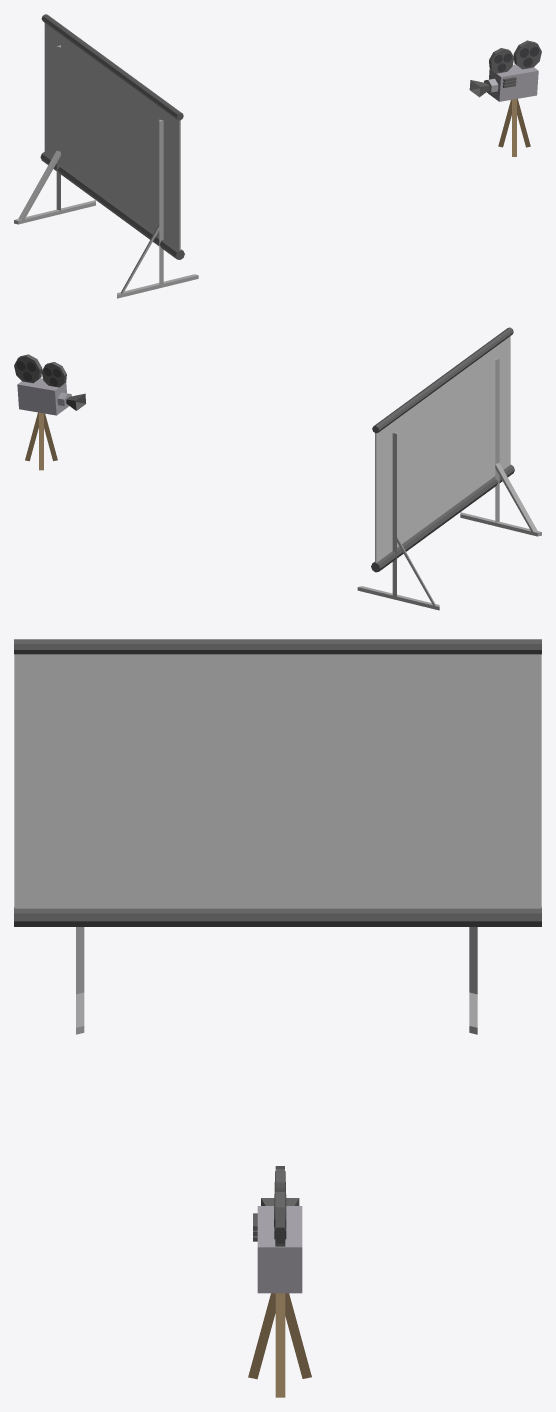
File: projector.obj
The picture shows the model from 3 angles, top to bottom: view 1: azimuth 30°, elevation 25°; view 2: azimuth 150°, elevation 25°; view 3: azimuth 270°, elevation 25°; orthographic projection. The views are drawn at different scales.
Parts seen in each view (by area): view 1: Cube.001, Cylinder.007_Cylinder.004, Cylinder.008_Cylinder.006, Cylinder.009, Cube, Cylinder.013, Cylinder.005_Cylinder.008; view 2: Cube.001, Cylinder.007_Cylinder.004, Cylinder.008_Cylinder.006, Cylinder.009, Cube, Cylinder.013, Cylinder.005_Cylinder.008; view 3: Cube.001, Cylinder.009, Cylinder.008_Cylinder.006, Cube, Cylinder.007_Cylinder.004, Cylinder.003_Cylinder.005.
Boxes of the visible parts, left/top/right/bottom form: Cube.001: left=44, top=23, right=180, bottom=250; Cylinder.007_Cylinder.004: left=14, top=45, right=198, bottom=298; Cylinder.008_Cylinder.006: left=41, top=14, right=183, bottom=120; Cylinder.009: left=40, top=152, right=184, bottom=259; Cube: left=488, top=64, right=538, bottom=101; Cylinder.013: left=513, top=40, right=541, bottom=69; Cylinder.005_Cylinder.008: left=489, top=48, right=514, bottom=73; Cube.001: left=375, top=336, right=510, bottom=562; Cylinder.007_Cylinder.004: left=357, top=358, right=541, bottom=610; Cylinder.008_Cylinder.006: left=372, top=327, right=513, bottom=433; Cylinder.009: left=371, top=464, right=514, bottom=572; Cube: left=17, top=378, right=67, bottom=415; Cylinder.013: left=14, top=354, right=42, bottom=383; Cylinder.005_Cylinder.008: left=41, top=362, right=66, bottom=387; Cube.001: left=14, top=654, right=541, bottom=908; Cylinder.009: left=14, top=907, right=541, bottom=926; Cylinder.008_Cylinder.006: left=14, top=639, right=541, bottom=654; Cube: left=257, top=1206, right=302, bottom=1293; Cylinder.007_Cylinder.004: left=76, top=927, right=477, bottom=1034; Cylinder.003_Cylinder.005: left=275, top=1293, right=285, bottom=1397.
Size of the model in its own units: 28.17 by 10.49 by 13.85.
